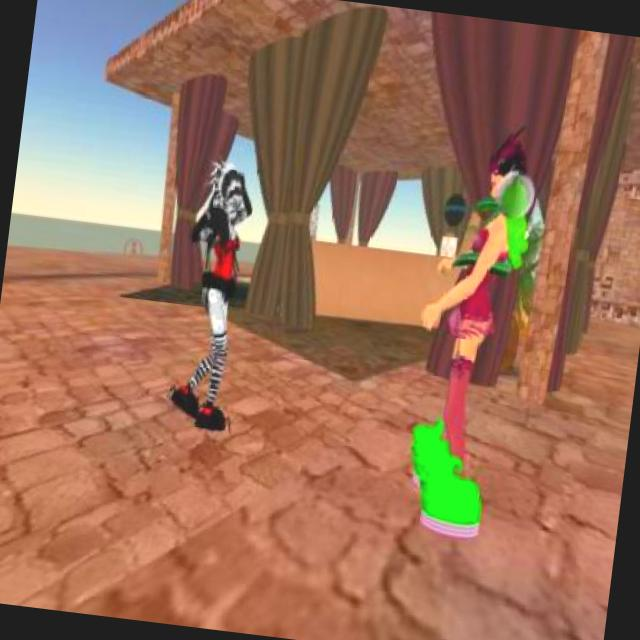Person: (404, 122, 559, 529), (162, 157, 258, 430)
